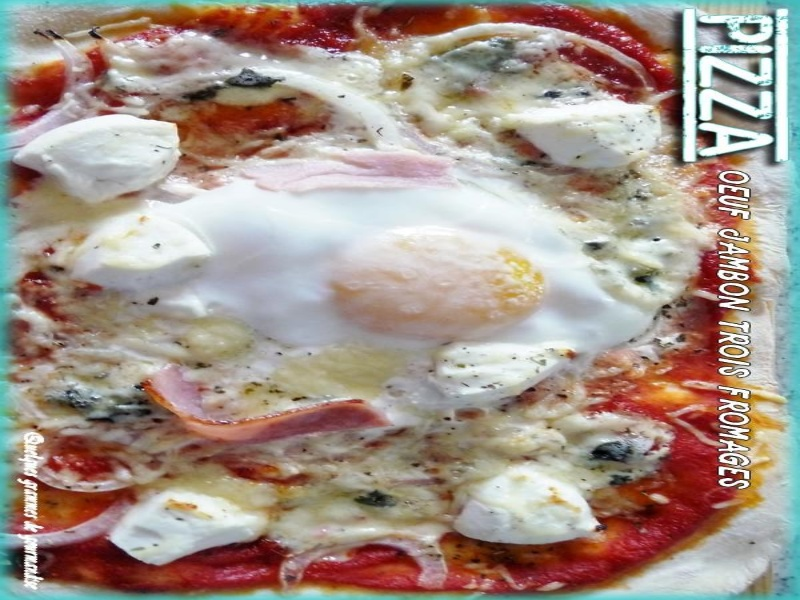oeuf: (297, 204, 575, 348)
